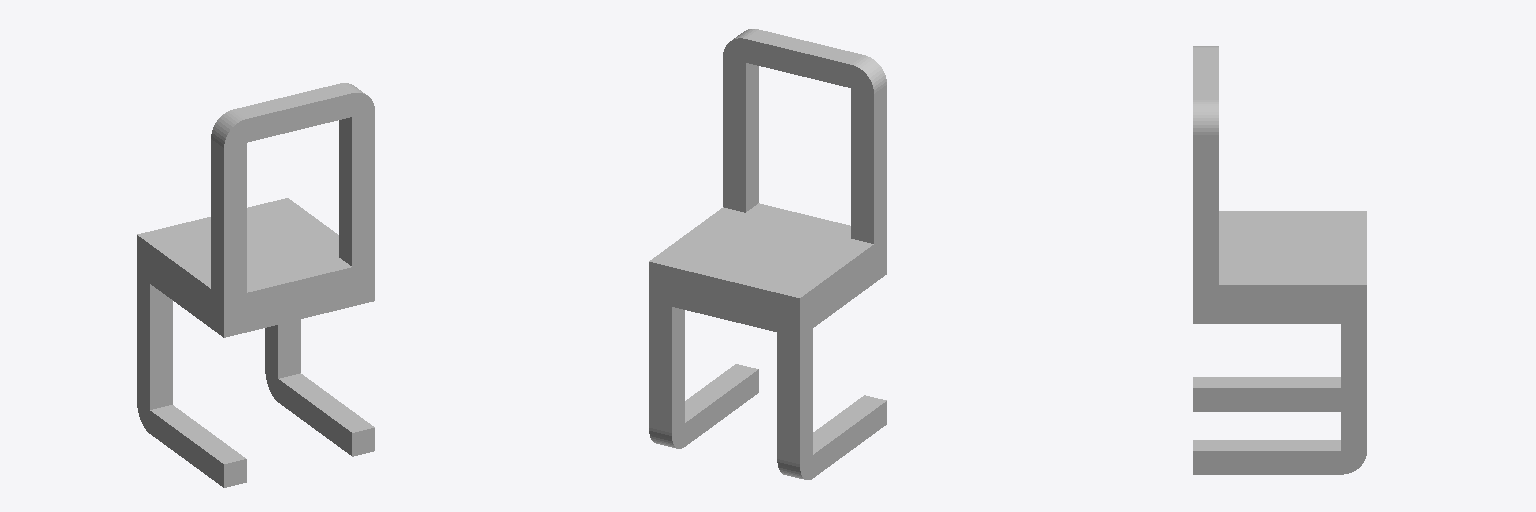
File: chairModernFrameCushion.obj
The picture shows the model from 3 angles: view 1: azimuth 30°, elevation 25°; view 2: azimuth 150°, elevation 25°; view 3: azimuth 270°, elevation 25°; orthographic projection.
Parts seen in each view (by area): view 1: chairModernFrameCushion; view 2: chairModernFrameCushion; view 3: chairModernFrameCushion.
Boxes of the visible parts, <box> form: chairModernFrameCushion: <box>137,83,374,487</box>; chairModernFrameCushion: <box>649,29,886,479</box>; chairModernFrameCushion: <box>1193,46,1366,474</box>.
Size of the model in its own units: 0.2 by 0.46 by 0.2.